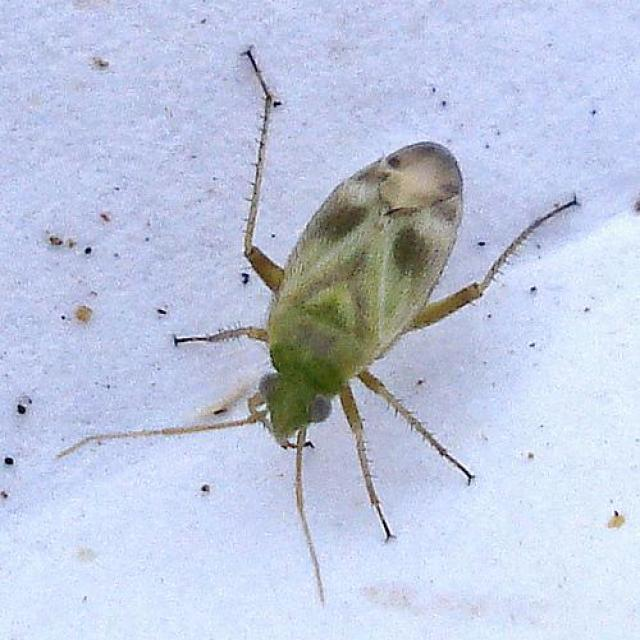Miridae-Adult-: (88, 43, 594, 547)
